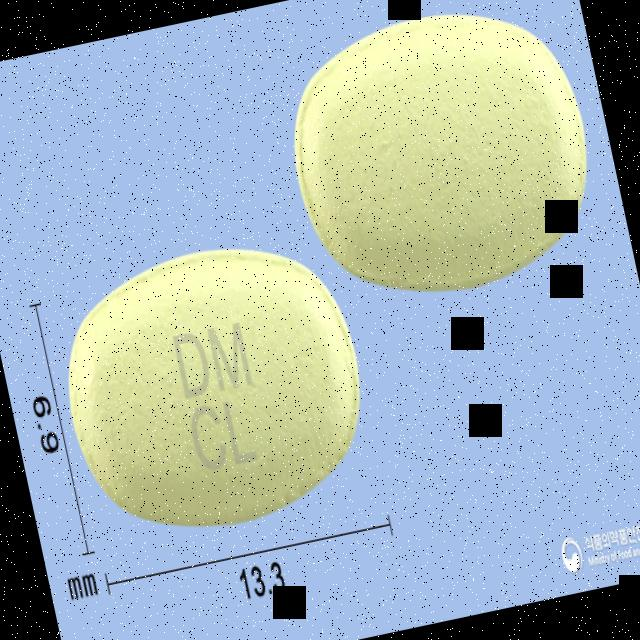Reclarcin Tab: (41, 221, 384, 551)
